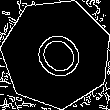O_SE: (23, 20, 90, 87)
